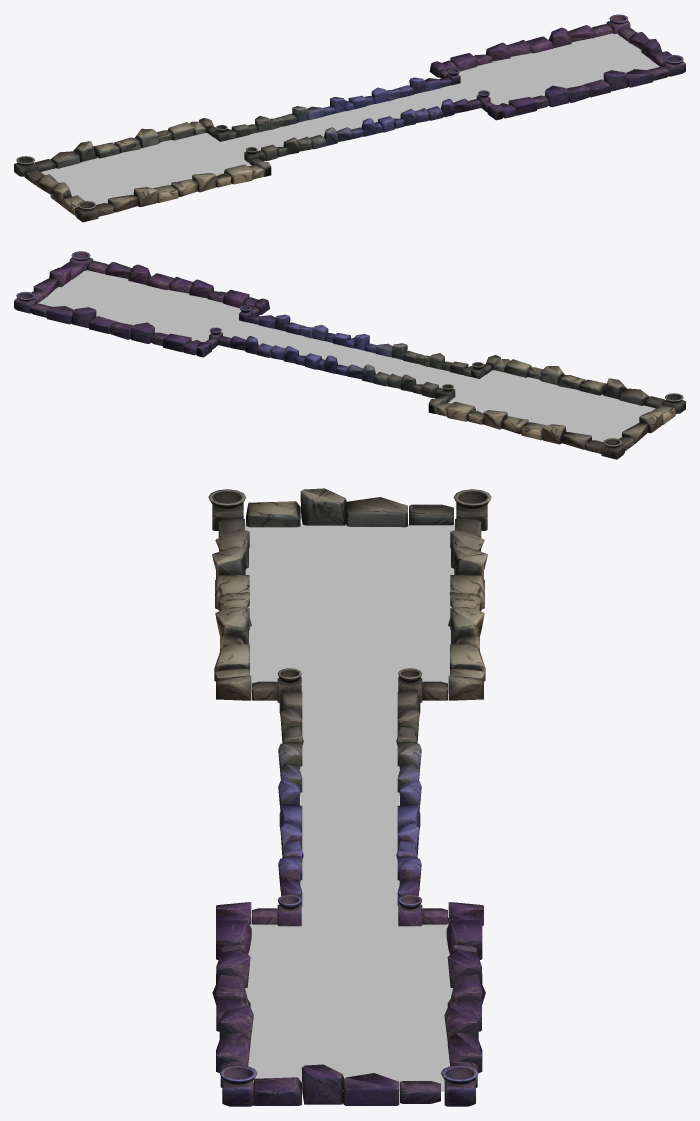
The model's file is Map.fbx.
The picture shows the model from 3 angles, top to bottom: view 1: azimuth 30°, elevation 25°; view 2: azimuth 150°, elevation 25°; view 3: azimuth 270°, elevation 25°; orthographic projection. The views are drawn at different scales.
Visible parts, largest first — view 1: stone_all_low, Plane001; view 2: stone_all_low, Plane001; view 3: Plane001, stone_all_low.
Boxes of the visible parts, x1,y1,x2,y2 form: stone_all_low: (14,14,685,222); Plane001: (41,33,659,204); stone_all_low: (14,251,685,459); Plane001: (38,270,655,441); Plane001: (245,524,454,1091); stone_all_low: (208,488,491,1106).
Bounding box in the file's own units: 8122 × 172 × 1642.
